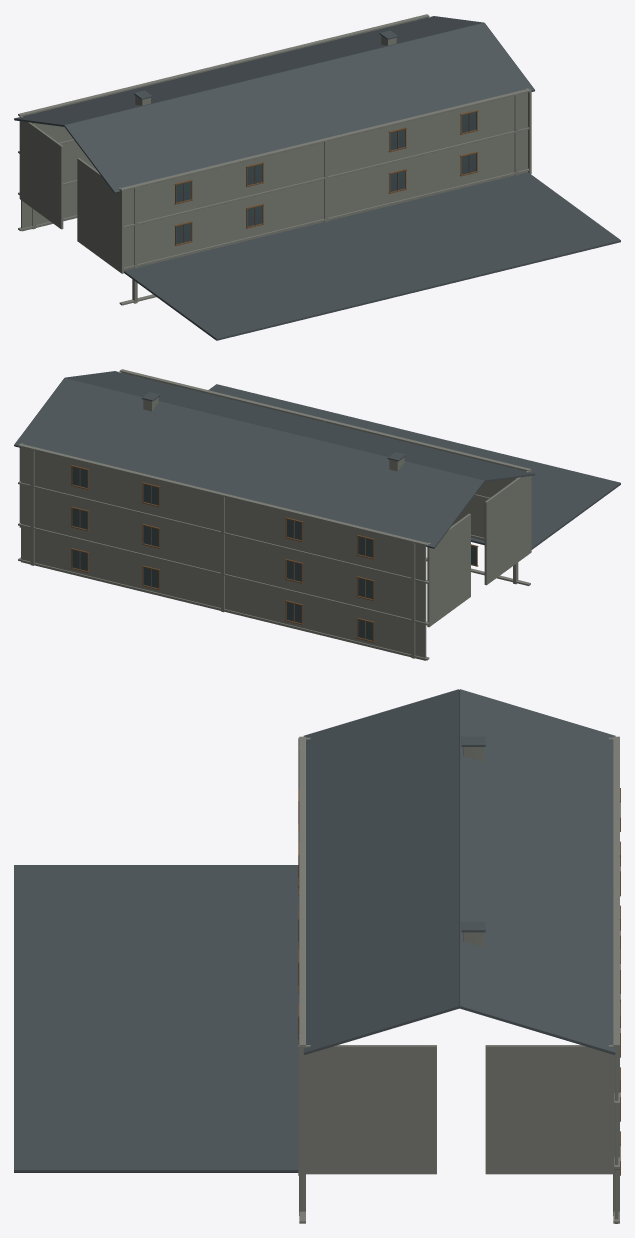
File: facade.glb
3 renders of one model, top to bottom at view 1: azimuth 30°, elevation 25°; view 2: azimuth 150°, elevation 25°; view 3: azimuth 270°, elevation 25°, orthographic. The views are drawn at different scales.
Visible parts, largest first — view 1: facade; view 2: facade; view 3: facade.
Boxes of the visible parts, <box> form: facade: <box>14,14,620,340</box>; facade: <box>14,369,620,660</box>; facade: <box>14,689,620,1223</box>.
Bounding box in the file's own units: 53 × 18.34 × 42.91.
